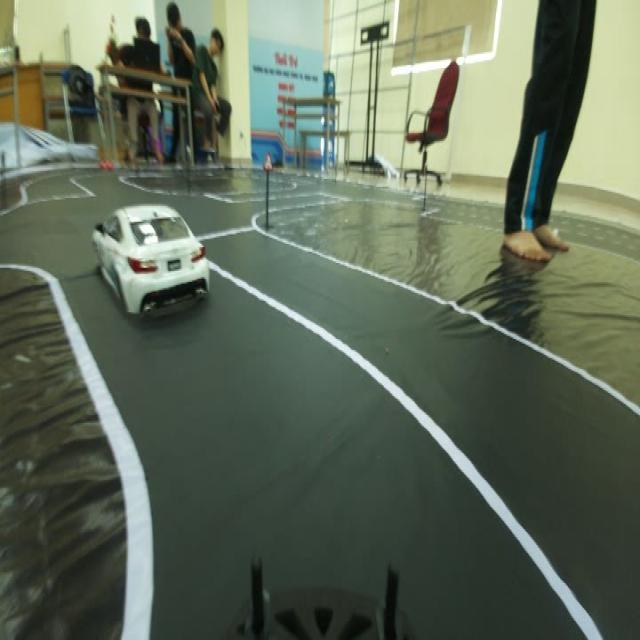car: (85, 193, 218, 338)
